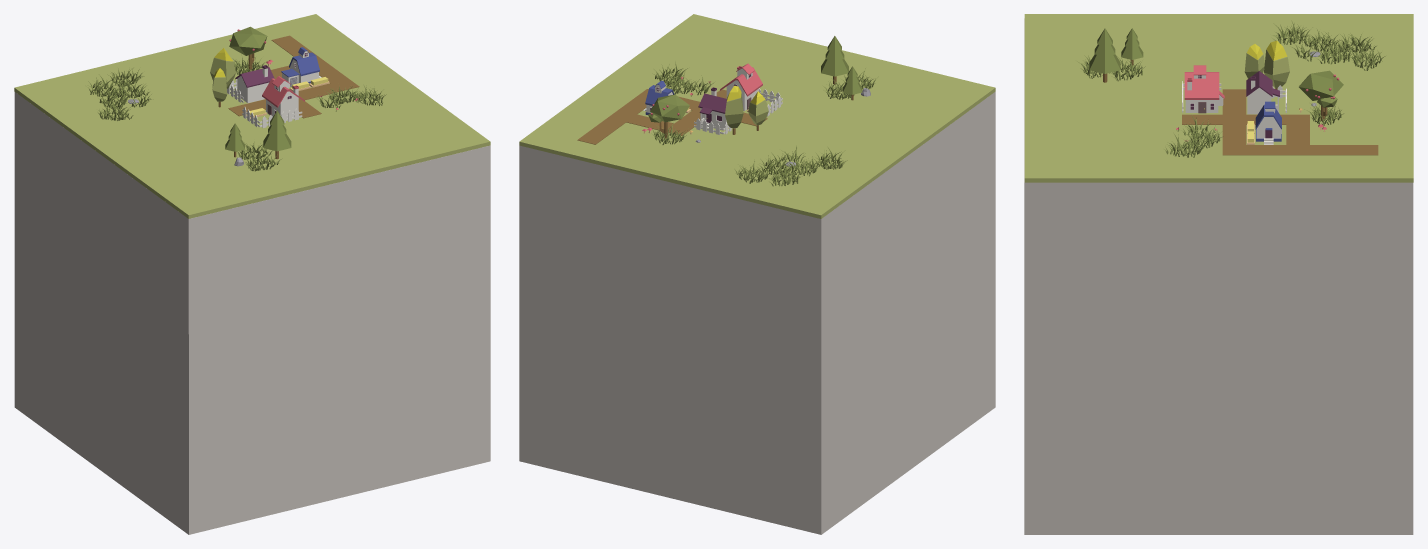
Rendered from Country3.fbx.
3 views of the same model, side by side, from view 1: azimuth 30°, elevation 25°; view 2: azimuth 150°, elevation 25°; view 3: azimuth 270°, elevation 25° (orthographic). The views are drawn at different scales.
Visible parts, largest first — view 1: coun_3; view 2: coun_3; view 3: coun_3.
Boxes of the visible parts, box(x1,y1,x2,y2) form: coun_3: box(14, 14, 490, 534); coun_3: box(519, 14, 995, 534); coun_3: box(1024, 14, 1413, 534).
Size of the model in its own units: 12 by 13.99 by 12.02.
